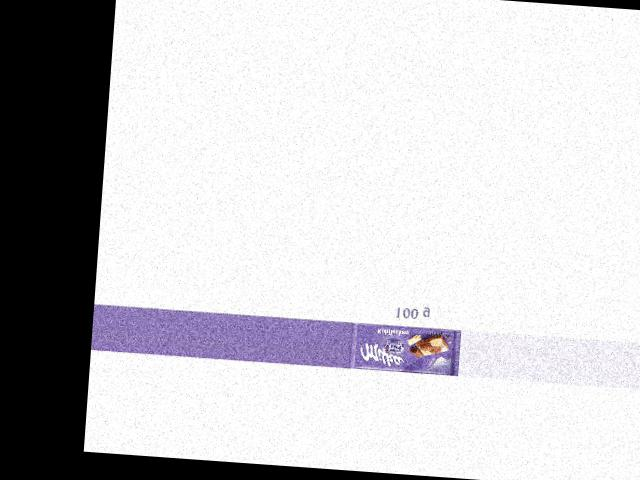chocolate: (348, 320, 462, 376)
